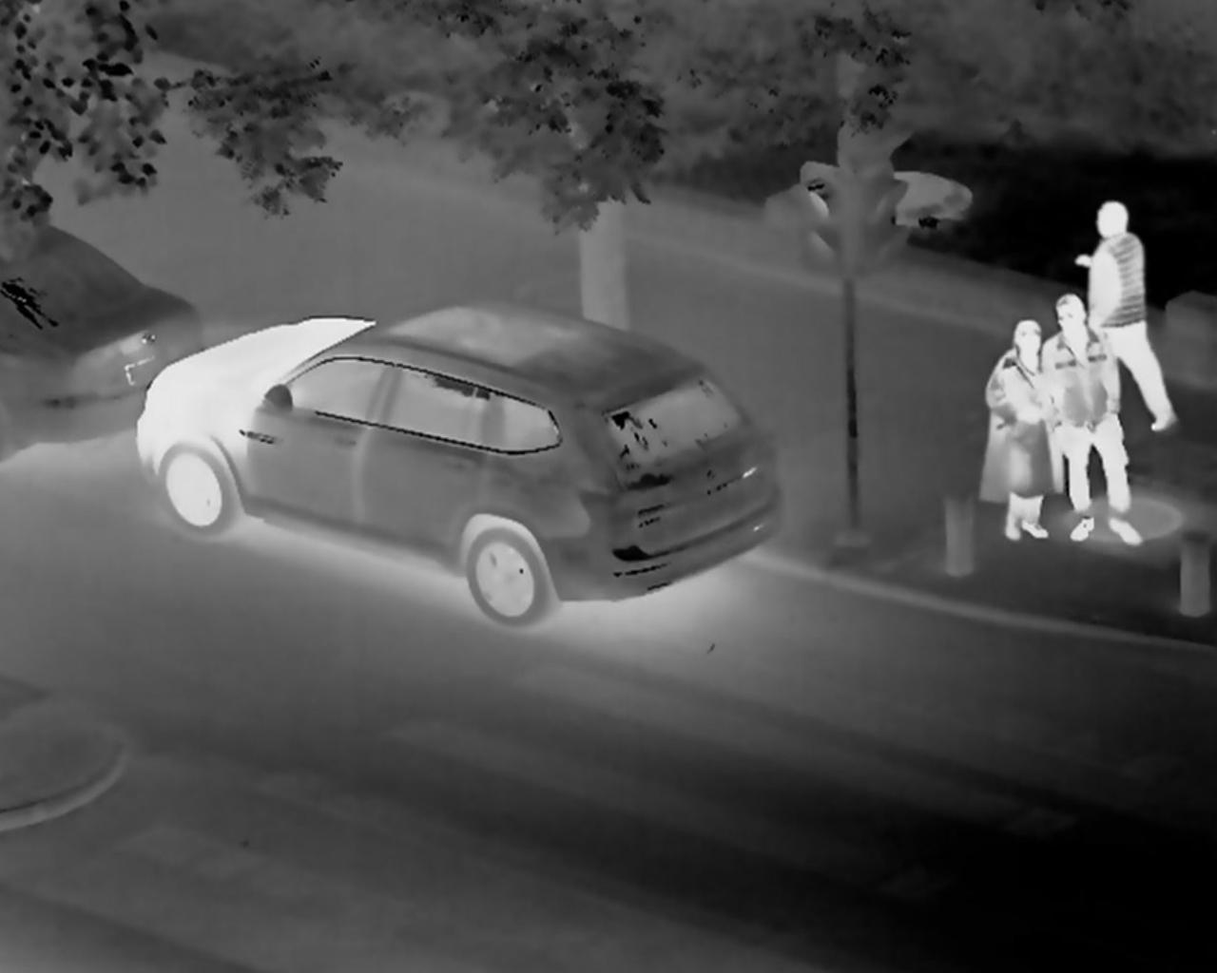person: (1074, 197, 1178, 394), (1051, 299, 1133, 541), (964, 321, 1054, 540)
